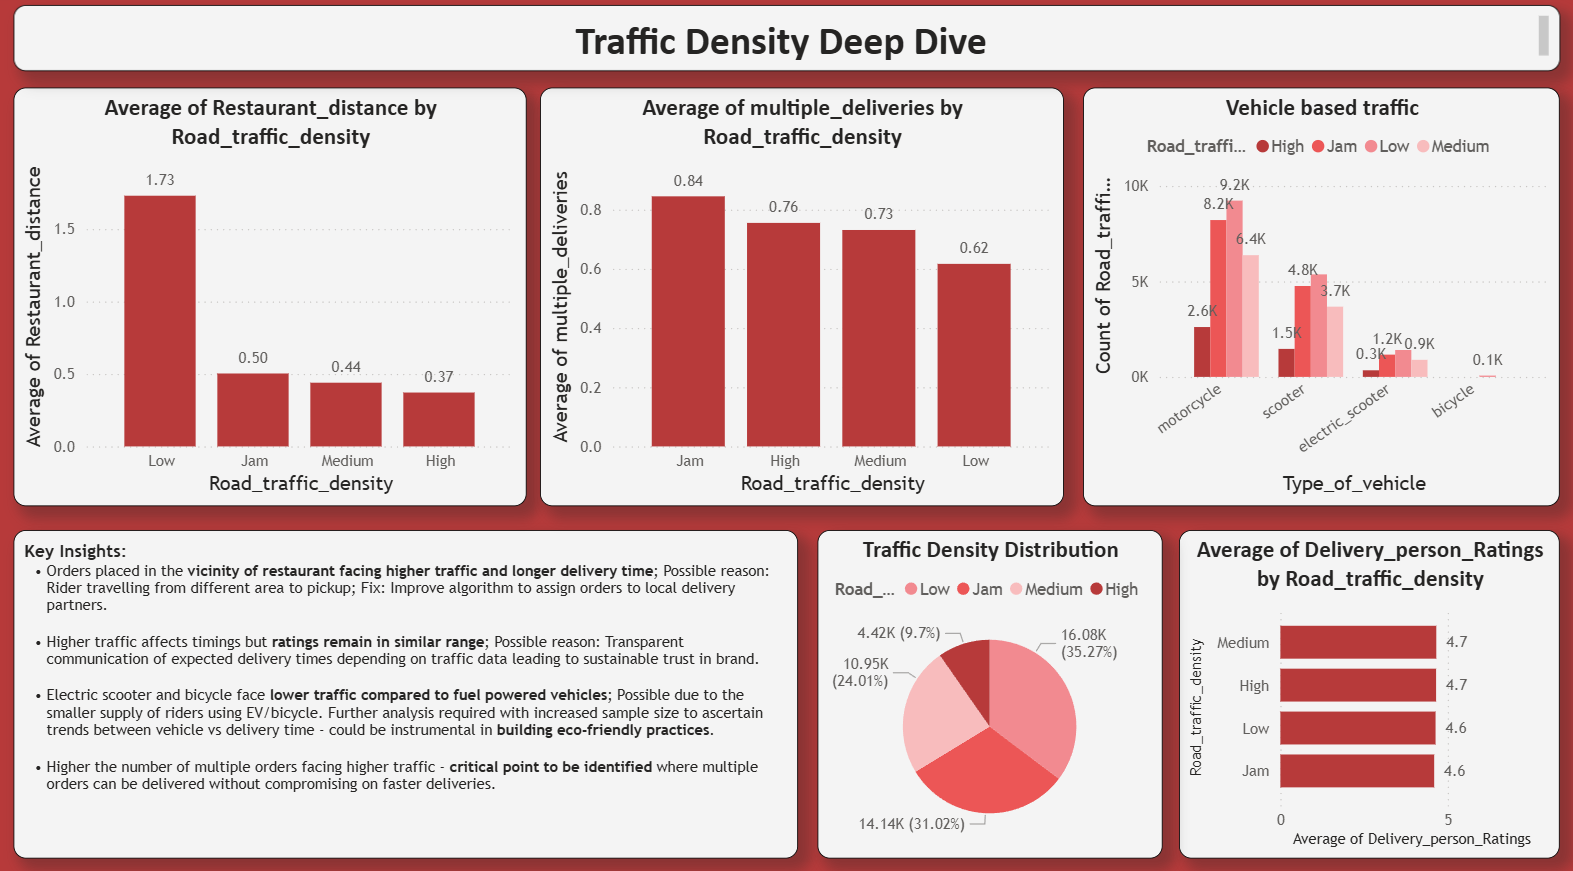

This screenshot's page, from the dashboard's own definition file:
{"tool":"powerbi","page":{"name":"Traffic Density","canvas":[1280,720],"ordinal":5},"visuals":[{"type":"textbox","box":[18.1,432.6,631.9,264.6],"z":0},{"type":"clusteredColumnChart","fields":{"Category":["zomato_data zomato.Road_traffic_density"],"Y":["Avg(zomato_data zomato.Restaurant_distance)"]},"box":[18.1,76.1,413.2,337.1],"z":1000},{"type":"clusteredColumnChart","fields":{"Category":["zomato_data zomato.Road_traffic_density"],"Y":["Avg(zomato_data zomato.multiple_deliveries)"]},"box":[442.2,76.1,421.7,337.1],"z":2000},{"type":"clusteredBarChart","fields":{"Category":["zomato_data zomato.Road_traffic_density"],"Y":["Avg(zomato_data zomato.Delivery_person_Ratings)"]},"box":[957,432.6,306.9,264.6],"z":3000},{"type":"pieChart","title":"Traffic Density Distribution","fields":{"Category":["zomato_data zomato.Road_traffic_density"],"Y":["CountNonNull(zomato_data zomato.Road_traffic_density)"]},"box":[665.8,432.6,277.9,264.6],"z":4000},{"type":"textbox","box":[18.1,9.7,1245.8,53.2],"z":5000},{"type":"clusteredColumnChart","title":"Vehicle based traffic","fields":{"Y":["CountNonNull(zomato_data zomato.Road_traffic_density)"],"Series":["zomato_data zomato.Road_traffic_density"],"Category":["zomato_data zomato.Type_of_vehicle"]},"box":[879.7,76.1,384.2,337.1],"z":6000}]}

Visuals, with their boxes in screenshot pixels (x1, y1, x2, y2), scaled from the page's 1280x720 canvas onto the 1573x871 screenshot:
textbox: 22,523,799,843
clusteredColumnChart - zomato_data zomato.Road_traffic_density x Avg(zomato_data zomato.Restaurant_distance): 22,92,530,500
clusteredColumnChart - zomato_data zomato.Road_traffic_density x Avg(zomato_data zomato.multiple_deliveries): 543,92,1062,500
clusteredBarChart - zomato_data zomato.Road_traffic_density x Avg(zomato_data zomato.Delivery_person_Ratings): 1176,523,1553,843
"Traffic Density Distribution" pieChart: 818,523,1160,843
textbox: 22,12,1553,76
"Vehicle based traffic" clusteredColumnChart: 1081,92,1553,500
